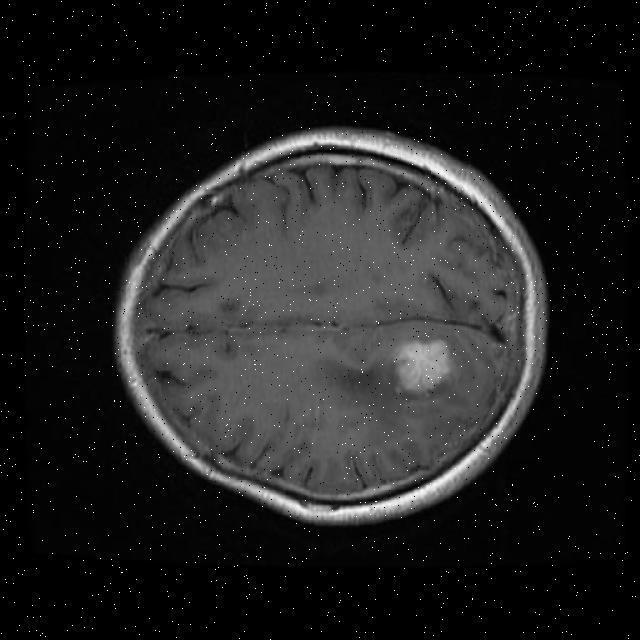Meningioma: (395, 340, 450, 391)
